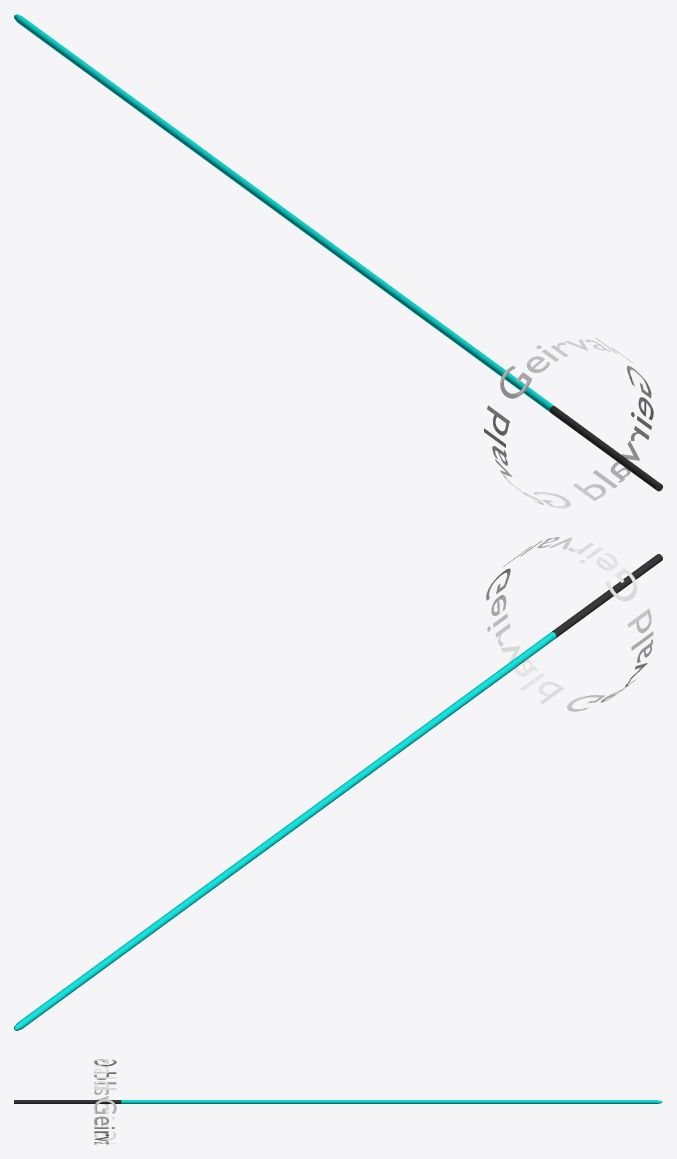
The model's file is geirvald saber.fbx.
3 views of the same model, one above another, from view 1: azimuth 30°, elevation 25°; view 2: azimuth 150°, elevation 25°; view 3: azimuth 270°, elevation 25° (orthographic). The views are drawn at different scales.
Parts seen in each view (by area): view 1: Saber; view 2: Saber; view 3: Saber.
Part boxes in pixels (left/top/right/bottom): Saber: left=14, top=14, right=662, bottom=508; Saber: left=14, top=537, right=662, bottom=1030; Saber: left=14, top=1059, right=662, bottom=1144.
Size of the model in its own units: 15.99 by 15.98 by 121.
